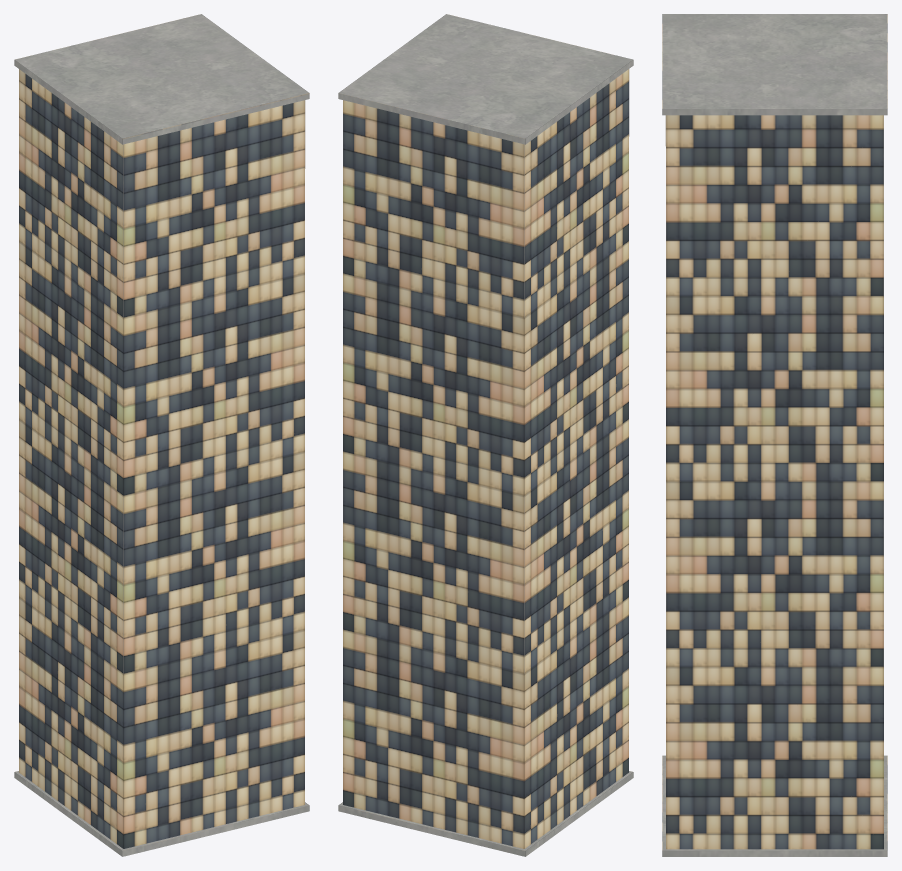
Rendered from building_06.1.glb.
The picture shows the model from 3 angles, left to right: view 1: azimuth 30°, elevation 25°; view 2: azimuth 150°, elevation 25°; view 3: azimuth 270°, elevation 25°; orthographic projection. The views are drawn at different scales.
Parts seen in each view (by area): view 1: building_06.1; view 2: building_06.1; view 3: building_06.1.
Part boxes in pixels (x1,y1,x2,y2): building_06.1: (14, 14, 309, 856); building_06.1: (338, 14, 633, 856); building_06.1: (662, 14, 887, 856).
Size of the model in its own units: 33 by 121 by 33.
Materials: 1 (1 with a texture image).
